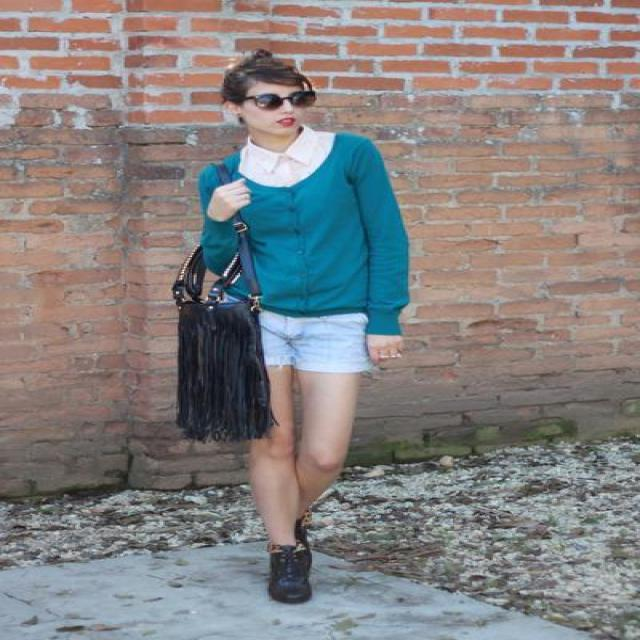bag: (176, 246, 274, 443)
shirt: (198, 125, 408, 344)
shoe: (268, 551, 310, 604)
shorts: (259, 308, 400, 372)
sunglass: (243, 78, 315, 110)
